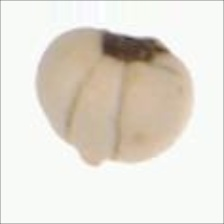L5: (62, 55, 129, 167), (97, 28, 171, 67)
L6: (32, 25, 197, 168)
